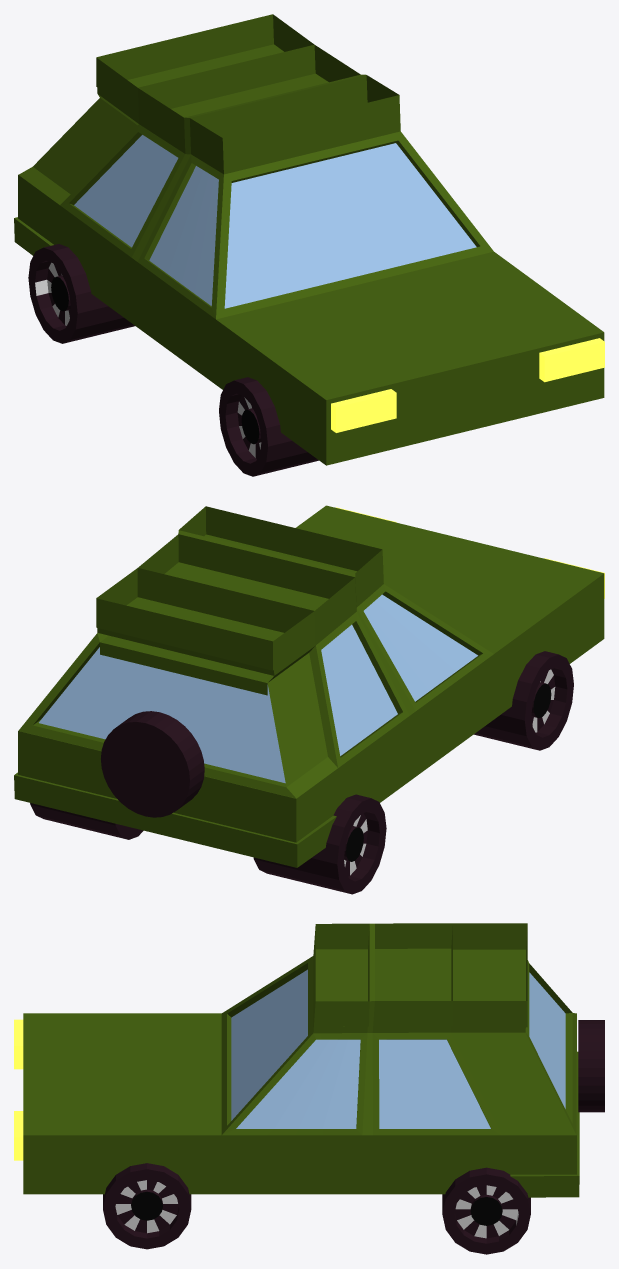
The model's file is car03.glb.
3 views of the same model, one above another, from view 1: azimuth 30°, elevation 25°; view 2: azimuth 150°, elevation 25°; view 3: azimuth 270°, elevation 25° (orthographic). The views are drawn at different scales.
Parts seen in each view (by area): view 1: Cube.005, Cylinder.005, Cylinder.006, Cube.004; view 2: Cube.005, Cylinder.007, Cylinder.005, Cylinder.006; view 3: Cube.005, Cylinder.005, Cylinder.006, Cylinder.007, Cube.004.
Part boxes in pixels (x1=…): Cube.005: x1=14, y1=14, x2=604, y2=465; Cylinder.005: x1=28, y1=244, x2=134, y2=343; Cylinder.006: x1=219, y1=377, x2=318, y2=476; Cube.004: x1=331, y1=338, x2=604, y2=432; Cube.005: x1=14, y1=505, x2=604, y2=867; Cylinder.007: x1=101, y1=711, x2=204, y2=817; Cylinder.005: x1=30, y1=794, x2=386, y2=894; Cylinder.006: x1=474, y1=651, x2=573, y2=750; Cube.005: x1=23, y1=923, x2=579, y2=1197; Cylinder.005: x1=442, y1=1167, x2=530, y2=1254; Cylinder.006: x1=103, y1=1163, x2=191, y2=1249; Cylinder.007: x1=578, y1=1020, x2=604, y2=1112; Cube.004: x1=14, y1=1019, x2=23, y2=1160.
Size of the model in its own units: 3.62 by 2.84 by 6.67.
